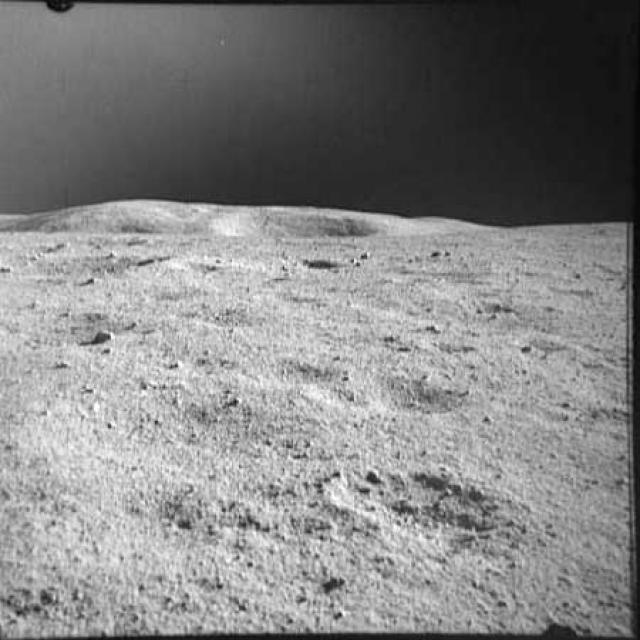crater: (332, 462, 530, 550), (357, 374, 478, 426), (184, 296, 298, 340), (239, 350, 363, 390), (289, 255, 356, 279), (165, 256, 239, 276), (464, 298, 513, 324)
rock: (313, 564, 352, 595), (221, 393, 260, 415), (411, 317, 449, 336), (86, 325, 118, 345), (426, 243, 452, 261), (168, 354, 191, 374), (50, 240, 78, 255), (354, 243, 380, 259), (76, 270, 98, 286), (105, 246, 122, 262)
